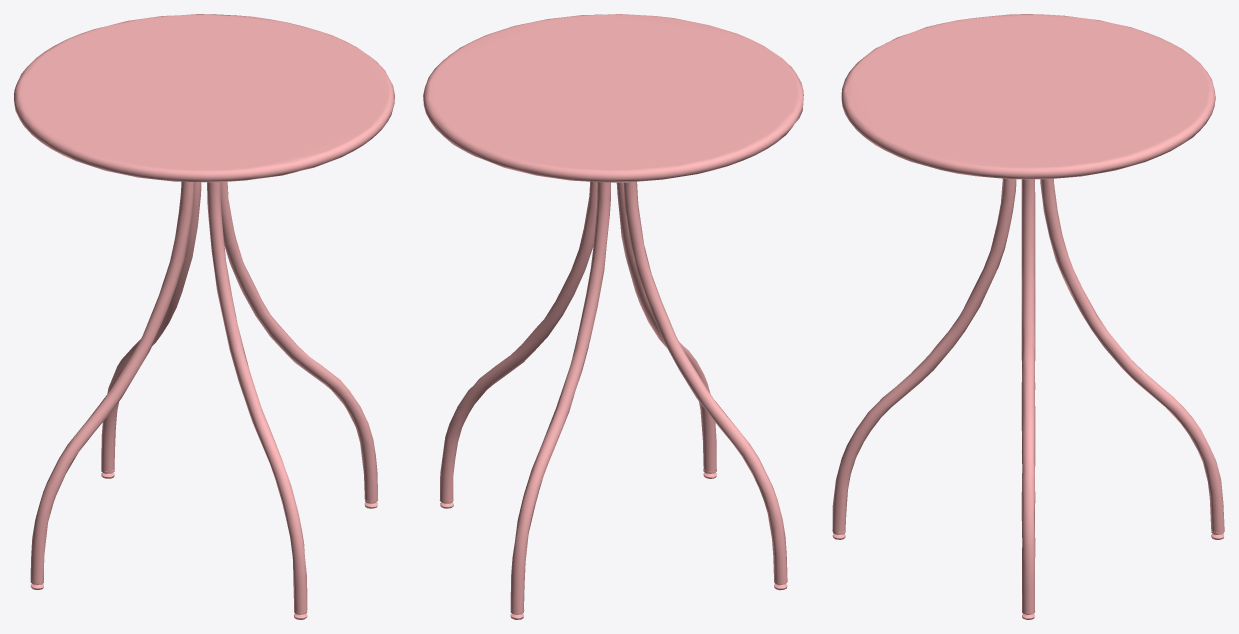
3 renders of one model, left to right at view 1: azimuth 30°, elevation 25°; view 2: azimuth 150°, elevation 25°; view 3: azimuth 270°, elevation 25°, orthographic.
Parts seen in each view (by area): view 1: ASY_ART_60638182_S01_NV01; view 2: ASY_ART_60638182_S01_NV01; view 3: ASY_ART_60638182_S01_NV01.
Part boxes in pixels (box(x1,y1,x2,y2)): ASY_ART_60638182_S01_NV01: box(14, 14, 394, 619); ASY_ART_60638182_S01_NV01: box(423, 14, 803, 619); ASY_ART_60638182_S01_NV01: box(832, 14, 1224, 619).
Size of the model in its own units: 0.4826 by 0.6056 by 0.4823.
Materials: 1 (1 with a texture image).
